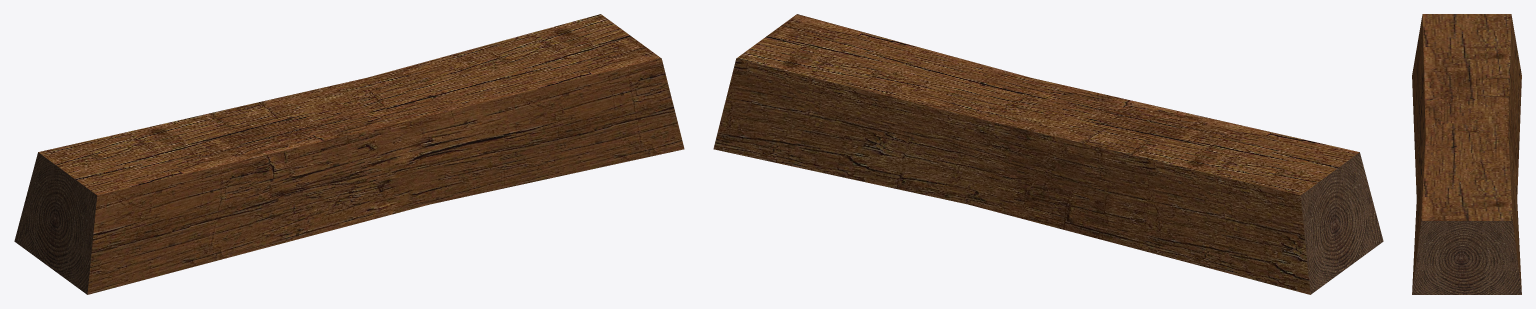
The model's file is CRAFT_DREWNO_DEBU.glb.
3 renders of one model, left to right at view 1: azimuth 30°, elevation 25°; view 2: azimuth 150°, elevation 25°; view 3: azimuth 270°, elevation 25°, orthographic. The views are drawn at different scales.
Parts seen in each view (by area): view 1: CRAFT_DREWNO_DEBU; view 2: CRAFT_DREWNO_DEBU; view 3: CRAFT_DREWNO_DEBU.
Part boxes in pixels (x1=…): CRAFT_DREWNO_DEBU: x1=14, y1=14, x2=684, y2=294; CRAFT_DREWNO_DEBU: x1=713, y1=14, x2=1383, y2=294; CRAFT_DREWNO_DEBU: x1=1412, y1=14, x2=1521, y2=294.
Size of the model in its own units: 0.5789 by 0.0837 by 0.1227.
2 materials, 2 textured.
